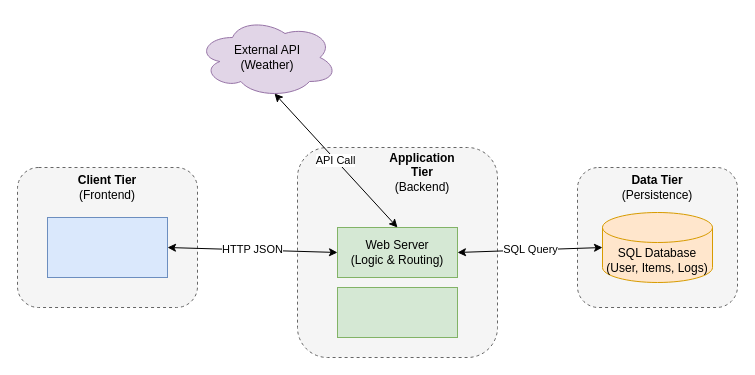
This 755x375 diagram has some shape labels left out. Here are the shapes that lost their labels. From the top down, the box of each, then its label:
(46, 216, 168, 278): Web Browser (HTML5 / CSS / JS)
(336, 286, 458, 338): Image Processor (Upload Handler)
